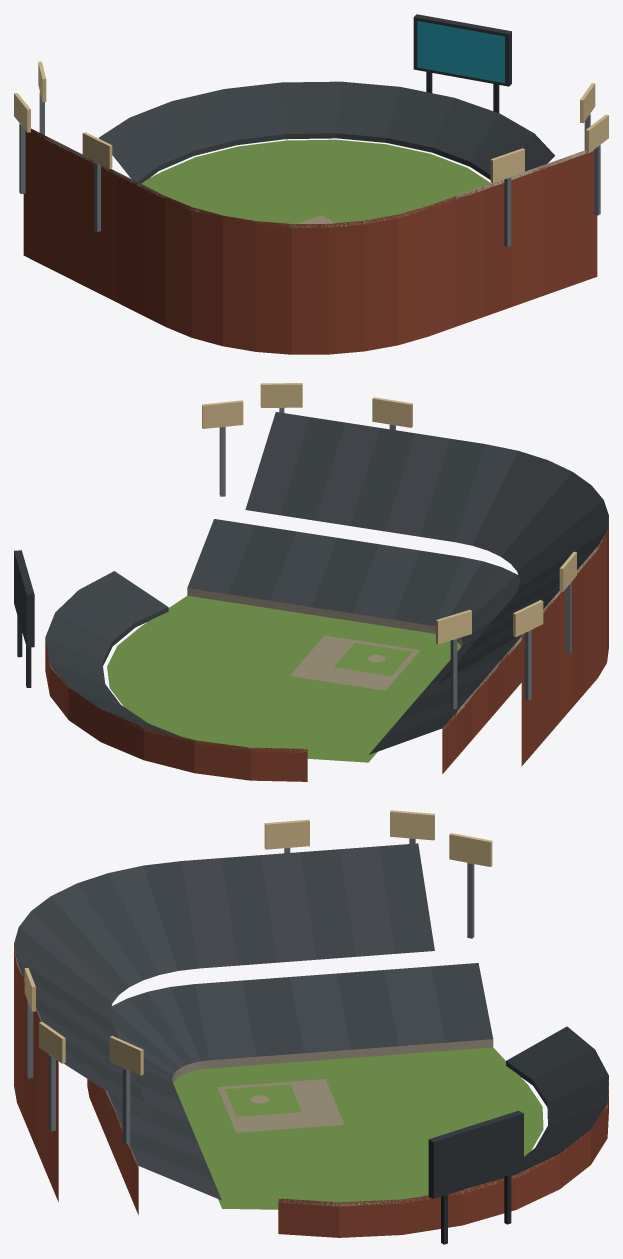
The picture shows the model from 3 angles, top to bottom: view 1: azimuth 30°, elevation 25°; view 2: azimuth 150°, elevation 25°; view 3: azimuth 270°, elevation 25°; orthographic projection. The views are drawn at different scales.
Parts seen in each view (by area): view 1: queens-ballpark-lod2; view 2: queens-ballpark-lod2; view 3: queens-ballpark-lod2.
Part boxes in pixels (x1,y1,x2,y2): queens-ballpark-lod2: [14, 14, 608, 354]; queens-ballpark-lod2: [14, 383, 608, 781]; queens-ballpark-lod2: [14, 810, 608, 1244].
Size of the model in its own units: 258 by 76.79 by 242.
